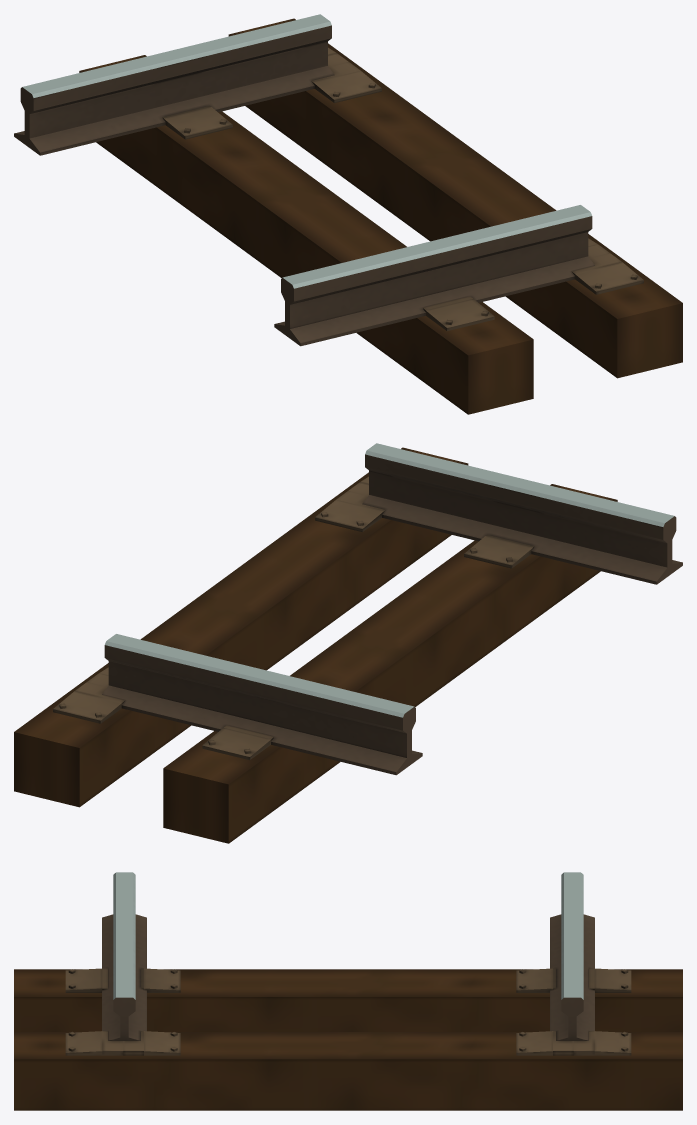
The model's file is spsf_tracks.obj.
The picture shows the model from 3 angles, top to bottom: view 1: azimuth 30°, elevation 25°; view 2: azimuth 150°, elevation 25°; view 3: azimuth 270°, elevation 25°; orthographic projection. The views are drawn at different scales.
Visible parts, largest first — view 1: RAIL_BASE.003_RAIL_BASE.006, RAIL_RIGHT_Cube.010, RAIL_LEFT_Cube.002, RAIL_BASE.002_RAIL_BASE.007, RAIL_BASE.004_RAIL_BASE.008, RAIL_BASE.005_Cube.003; view 2: RAIL_BASE.003_RAIL_BASE.006, RAIL_LEFT_Cube.002, RAIL_RIGHT_Cube.010, RAIL_BASE.002_RAIL_BASE.007, RAIL_BASE.004_RAIL_BASE.008, RAIL_BASE.005_Cube.003; view 3: RAIL_BASE.003_RAIL_BASE.006, RAIL_BASE.002_RAIL_BASE.007, RAIL_BASE.004_RAIL_BASE.008, RAIL_BASE.005_Cube.003, RAIL_LEFT_Cube.002, RAIL_RIGHT_Cube.010.
Boxes of the visible parts, <box> form: RAIL_BASE.003_RAIL_BASE.006: <box>79,35,617,414</box>; RAIL_RIGHT_Cube.010: <box>14,14,334,155</box>; RAIL_LEFT_Cube.002: <box>274,205,594,346</box>; RAIL_BASE.002_RAIL_BASE.007: <box>229,18,682,378</box>; RAIL_BASE.004_RAIL_BASE.008: <box>80,55,533,414</box>; RAIL_BASE.005_Cube.003: <box>162,47,643,331</box>; RAIL_BASE.003_RAIL_BASE.006: <box>79,464,617,843</box>; RAIL_LEFT_Cube.002: <box>362,443,682,584</box>; RAIL_RIGHT_Cube.010: <box>102,634,422,775</box>; RAIL_BASE.002_RAIL_BASE.007: <box>14,447,467,807</box>; RAIL_BASE.004_RAIL_BASE.008: <box>163,484,616,843</box>; RAIL_BASE.005_Cube.003: <box>53,476,534,760</box>; RAIL_BASE.003_RAIL_BASE.006: <box>14,997,682,1110</box>; RAIL_BASE.002_RAIL_BASE.007: <box>14,1032,682,1059</box>; RAIL_BASE.004_RAIL_BASE.008: <box>14,969,682,996</box>; RAIL_BASE.005_Cube.003: <box>65,968,631,1055</box>; RAIL_LEFT_Cube.002: <box>102,872,146,1040</box>; RAIL_RIGHT_Cube.010: <box>550,872,594,1040</box>.
Bounding box in the file's own units: 1.11 × 0.3683 × 2.26.
1 material, 1 textured.
